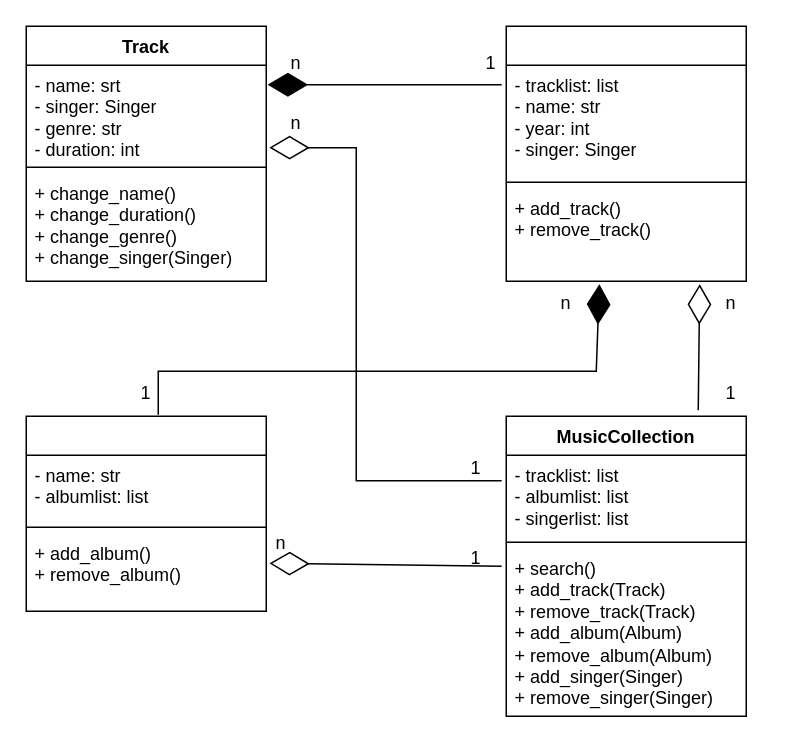
The diagram is 803 pixels wide and 747 high, and some of its shapes have lost their labels. Here are the shapes that lost their labels. From the top down, the box of each, then its label:
(505, 25, 746, 281): Album
(25, 415, 266, 611): Singer
